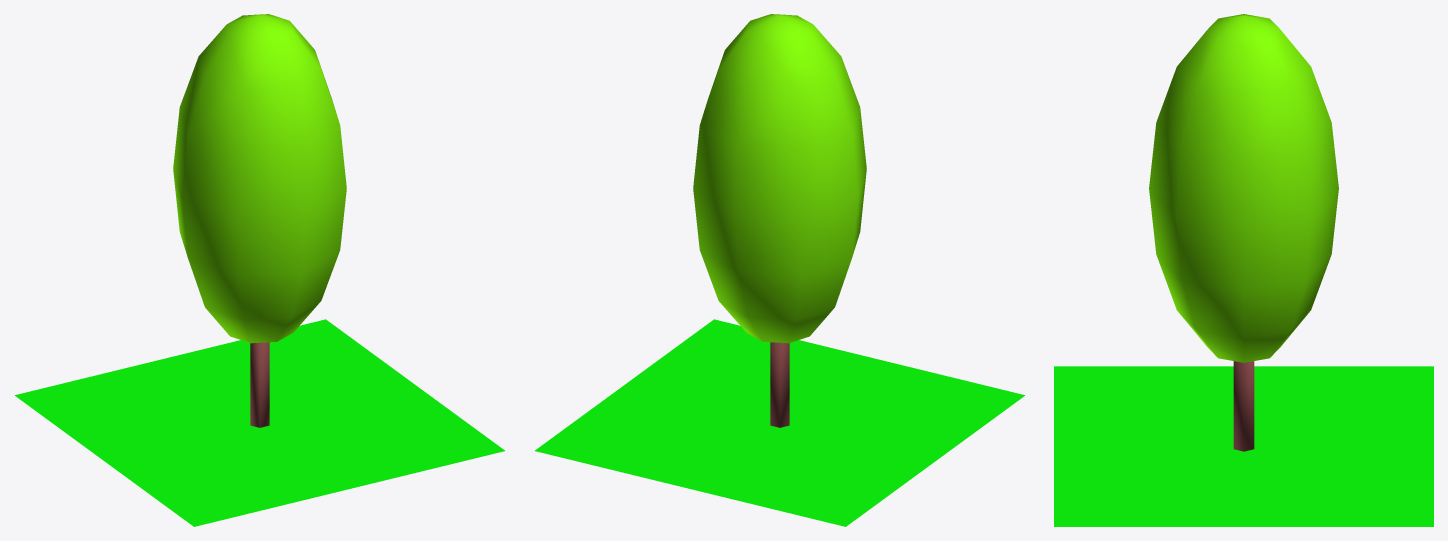
Rendered from terrain_tree8.obj.
The picture shows the model from 3 angles, left to right: view 1: azimuth 30°, elevation 25°; view 2: azimuth 150°, elevation 25°; view 3: azimuth 270°, elevation 25°; orthographic projection. The views are drawn at different scales.
Visible parts, largest first — view 1: Cube1, sphere3, Cylinder4; view 2: Cube1, sphere3, Cylinder4; view 3: Cube1, sphere3, Cylinder4.
Part boxes in pixels (x1=…): Cube1: x1=15, y1=319, x2=504, y2=526; sphere3: x1=173, y1=14, x2=346, y2=343; Cylinder4: x1=250, y1=342, x2=269, y2=427; Cube1: x1=535, y1=319, x2=1024, y2=526; sphere3: x1=693, y1=14, x2=866, y2=343; Cylinder4: x1=770, y1=342, x2=789, y2=427; Cube1: x1=1054, y1=366, x2=1433, y2=526; sphere3: x1=1149, y1=14, x2=1338, y2=362; Cylinder4: x1=1233, y1=361, x2=1254, y2=451.
Bounding box in the file's own units: 8 × 10 × 8.
